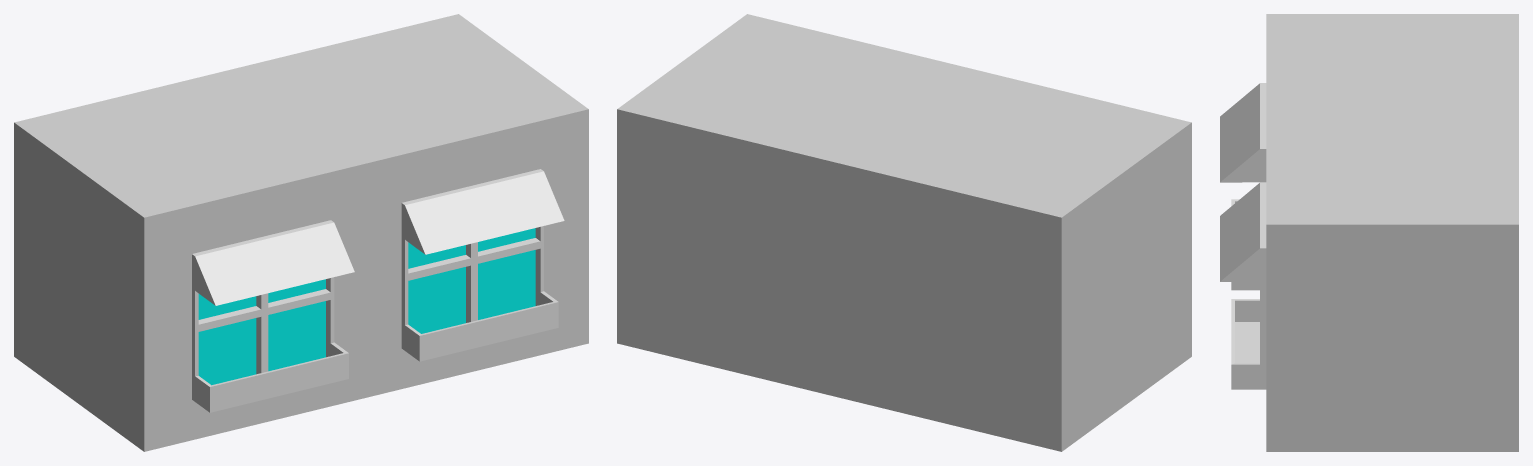
File: BuildingM1.fbx
3 renders of one model, left to right at view 1: azimuth 30°, elevation 25°; view 2: azimuth 150°, elevation 25°; view 3: azimuth 270°, elevation 25°, orthographic. The views are drawn at different scales.
Parts seen in each view (by area): view 1: M1; view 2: M1; view 3: M1.
Part boxes in pixels (box(x1,y1,x2,y2)): M1: box(14, 14, 588, 451); M1: box(617, 14, 1191, 451); M1: box(1220, 14, 1518, 451).
Bounding box in the file's own units: 1284 × 647 × 771.
